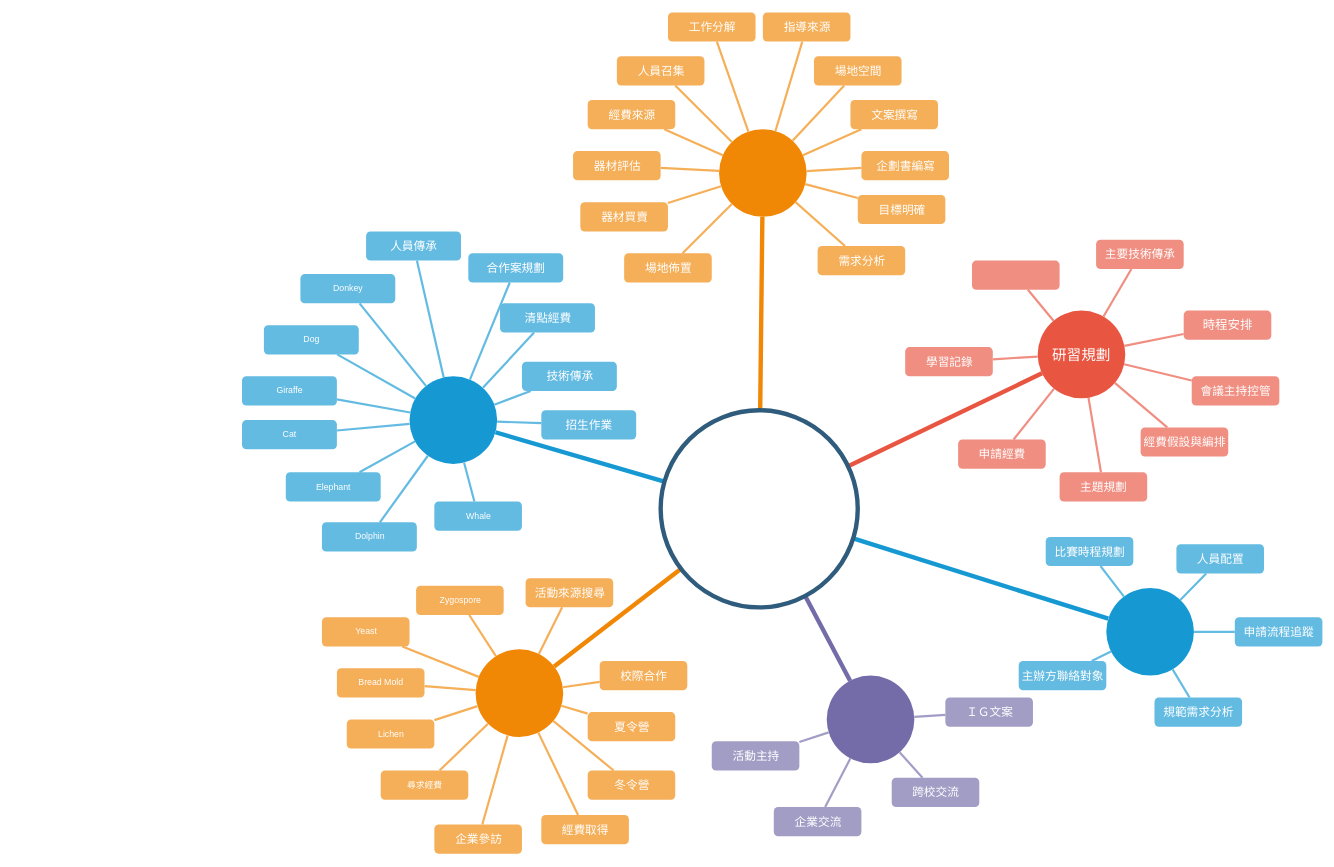
This 1334x867 diagram has some shape labels left out. Here are the shapes that lost their labels. From the top down, the centre of each, then its label:
the point at 762,172: 前置作業
the point at 1015,274: 技術交流
the point at 453,420: 結案作業
the point at 759,508: WiF - AutoRace
the point at 1150,631: 比賽規劃
the point at 519,693: 贊助/合作
the point at 870,719: 宣傳社團
